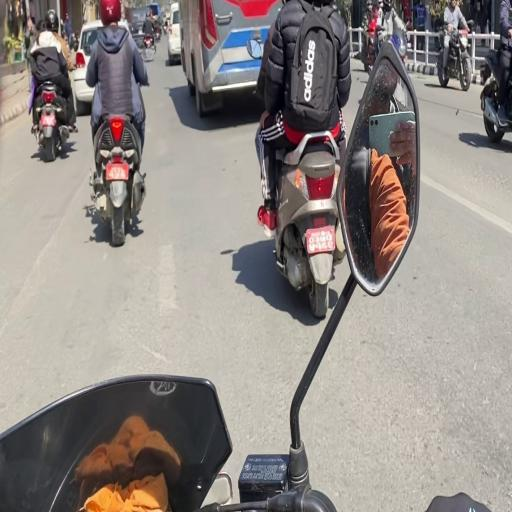license_plate: (303, 222, 338, 256), (102, 159, 132, 183), (39, 112, 58, 129)
